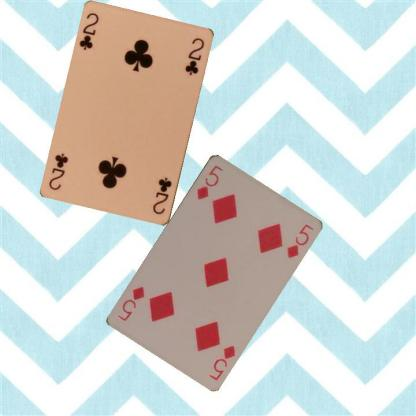2c: (150, 175, 174, 216), (77, 10, 100, 52)
5d: (206, 342, 237, 381), (194, 162, 224, 200)
